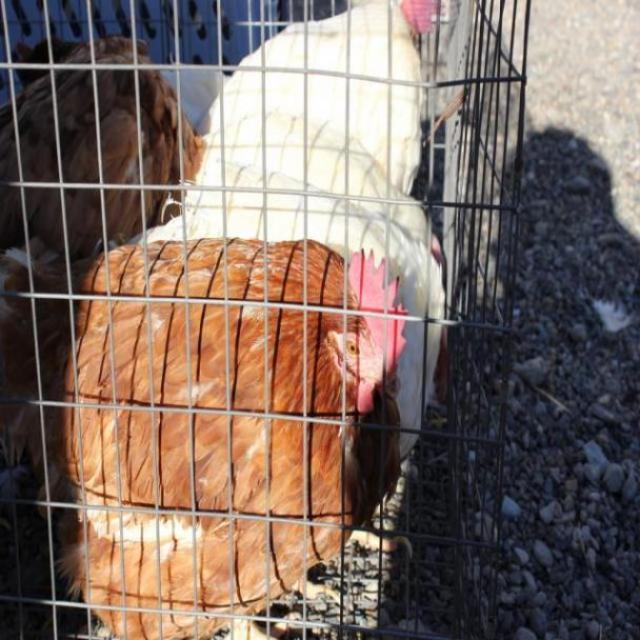Chicken: (0, 230, 404, 639)
